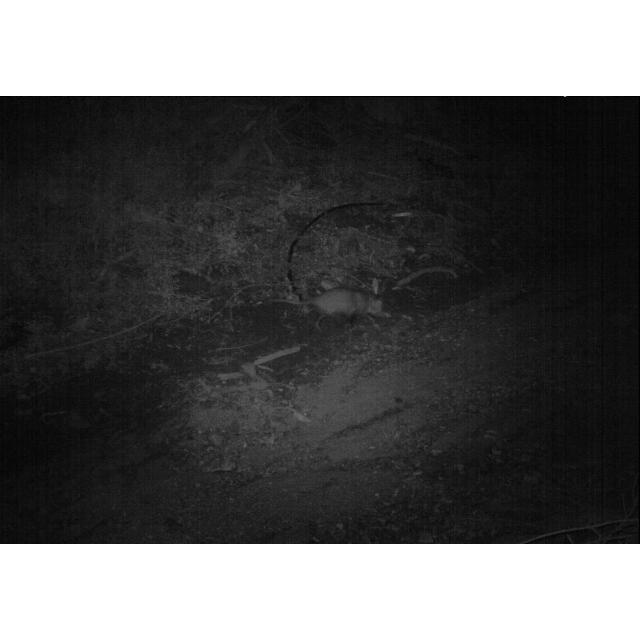animals: (272, 285, 388, 325)
